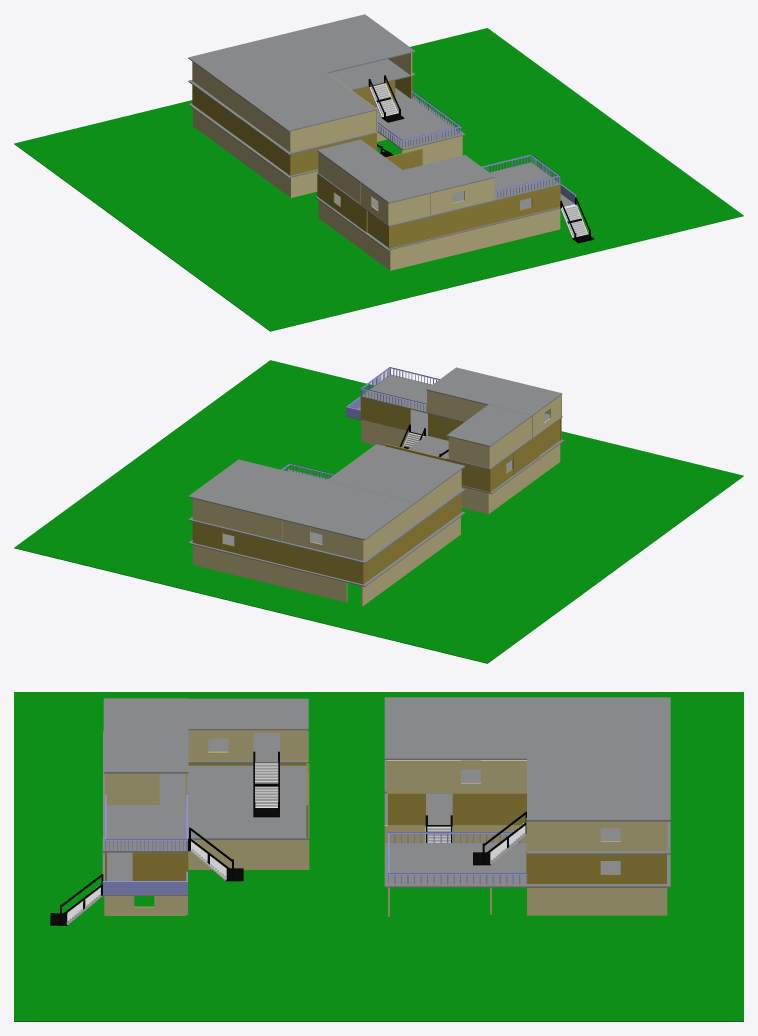
File: dual_ruins.glb
3 renders of one model, top to bottom at view 1: azimuth 30°, elevation 25°; view 2: azimuth 150°, elevation 25°; view 3: azimuth 270°, elevation 25°, orthographic. The views are drawn at different scales.
Parts seen in each view (by area): view 1: Ground, Cube.038_34, Cube.037_33, Cube.040_36, Cube.065_61, Cube.009_9, Cube.048_44, Cube.074_76, Cube.004_4, Cube.031_27, Cube.017_16, Cube.054_50 (+17 smaller); view 2: Ground, Cube.038_34, Cube.037_33, Cube.065_61, Cube.006_6, Cube.014_14, Cube.074_76, Cube.034_30, Cube.004_4, Cube.033_29, Cube.030_26, Cube.054_50 (+18 smaller); view 3: Ground, Cube.038_34, Cube.037_33, Cube.046_42, Cube.065_61, Cube.009_9, Layer1 (×2), Cube.029_25, Cube.074_76, Cube.028_24, Cube.025_21, Cube.054_50 (+20 smaller).
Boxes of the visible parts, bbox=[...] form: Ground: bbox=[14, 28, 743, 331]; Cube.038_34: bbox=[188, 14, 415, 94]; Cube.037_33: bbox=[238, 72, 377, 131]; Cube.040_36: bbox=[389, 209, 560, 270]; Cube.065_61: bbox=[359, 155, 494, 203]; Cube.009_9: bbox=[375, 98, 465, 150]; Cube.048_44: bbox=[388, 201, 494, 248]; Cube.074_76: bbox=[317, 139, 402, 181]; Cube.004_4: bbox=[193, 109, 292, 197]; Cube.031_27: bbox=[291, 110, 375, 151]; Cube.017_16: bbox=[188, 59, 415, 118]; Cube.054_50: bbox=[489, 162, 561, 201]; Ground: bbox=[14, 360, 743, 663]; Cube.038_34: bbox=[188, 459, 415, 540]; Cube.037_33: bbox=[327, 444, 465, 502]; Cube.065_61: bbox=[426, 367, 562, 415]; Cube.006_6: bbox=[194, 545, 347, 602]; Cube.014_14: bbox=[274, 541, 362, 584]; Cube.074_76: bbox=[446, 404, 532, 446]; Cube.034_30: bbox=[194, 499, 282, 541]; Cube.004_4: bbox=[361, 517, 460, 606]; Cube.033_29: bbox=[194, 522, 274, 562]; Cube.030_26: bbox=[282, 520, 361, 560]; Cube.054_50: bbox=[360, 374, 432, 413]; Ground: bbox=[14, 692, 743, 1021]; Cube.038_34: bbox=[527, 697, 670, 821]; Cube.037_33: bbox=[384, 697, 527, 759]; Cube.046_42: bbox=[188, 764, 309, 839]; Cube.065_61: bbox=[103, 698, 188, 773]; Cube.009_9: bbox=[384, 843, 527, 887]; Layer1 (×2): bbox=[384, 825, 667, 915]; Cube.029_25: bbox=[386, 760, 526, 792]; Cube.074_76: bbox=[188, 698, 308, 730]; Cube.028_24: bbox=[526, 818, 666, 850]; Cube.025_21: bbox=[526, 851, 666, 883]; Cube.054_50: bbox=[103, 803, 187, 852].
Bounding box in the file's own units: 3.71 × 0.5194 × 3.48.
